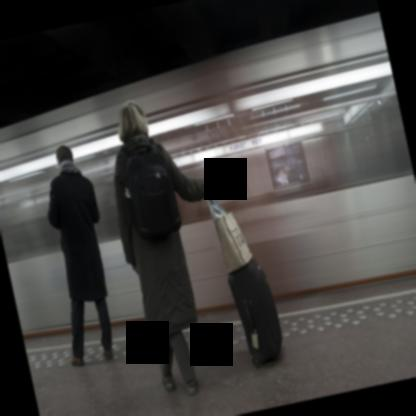backpack: (119, 137, 181, 243)
handbag: (206, 195, 250, 271)
suitcase: (227, 259, 282, 369)
